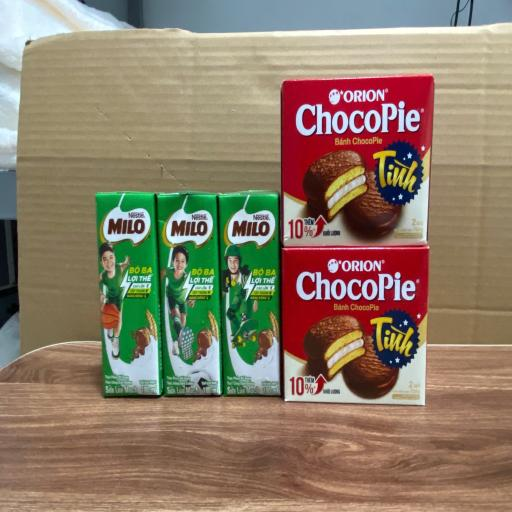chocopie: (281, 74, 435, 247), (280, 247, 430, 406)
milo: (95, 191, 162, 399), (156, 192, 222, 398), (218, 191, 282, 397)
